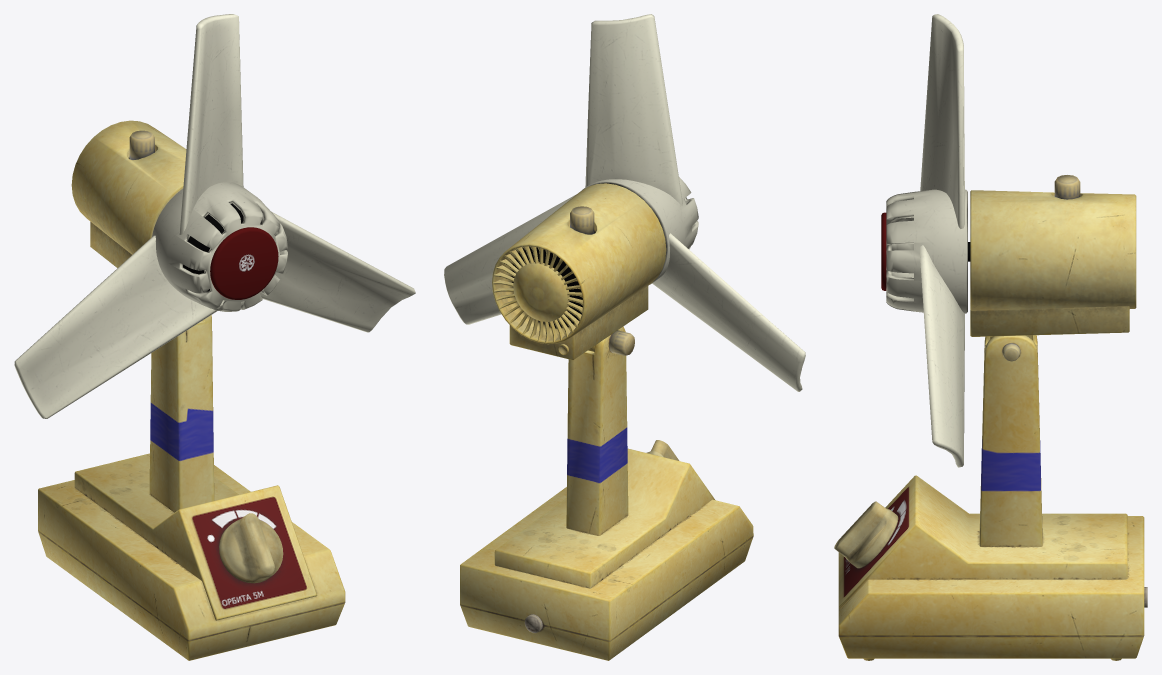
File: soviet_fan_orbita_5m.glb
The picture shows the model from 3 angles, left to right: view 1: azimuth 30°, elevation 25°; view 2: azimuth 150°, elevation 25°; view 3: azimuth 270°, elevation 25°; orthographic projection. The views are drawn at different scales.
Parts seen in each view (by area): view 1: 1.Body_low_DefaultMaterial_0.023, 1.Body_low, 1.Body_low_DefaultMaterial_0.106, 1.Body_low_DefaultMaterial_0.022, 1.Body_low_DefaultMaterial_0.008, 1.Body_low_DefaultMaterial_0.013, 1.Body_low_DefaultMaterial_0.020, 1.Body_low_DefaultMaterial_0.019, 1.Body_low_DefaultMaterial_0.028, 1.Body_low_DefaultMaterial_0.113, 1.Body_low_DefaultMaterial_0.104, 1.Body_low_DefaultMaterial_0.102 (+1 smaller); view 2: 1.Body_low_DefaultMaterial_0.023, 1.Body_low, 1.Body_low_DefaultMaterial_0.106, 1.Body_low_DefaultMaterial_0.020, 1.Body_low_DefaultMaterial_0.010, 1.Body_low_DefaultMaterial_0.013, 1.Body_low_DefaultMaterial_0.019, 1.Body_low_DefaultMaterial_0.227, 1.Body_low_DefaultMaterial_0.113, 1.Body_low_DefaultMaterial_0.108, 1.Body_low_DefaultMaterial_0.112, 1.Body_low_DefaultMaterial_0.109 (+1 smaller); view 3: 1.Body_low, 1.Body_low_DefaultMaterial_0.023, 1.Body_low_DefaultMaterial_0.106, 1.Body_low_DefaultMaterial_0.009, 1.Body_low_DefaultMaterial_0.020, 1.Body_low_DefaultMaterial_0.021, 1.Body_low_DefaultMaterial_0.113, 1.Body_low_DefaultMaterial_0.022, 1.Body_low_DefaultMaterial_0.098, 1.Body_low_DefaultMaterial_0.096.
Boxes of the visible parts, x1,y1,x2,y2 form: 1.Body_low_DefaultMaterial_0.023: (15, 17, 415, 418); 1.Body_low: (38, 465, 345, 660); 1.Body_low_DefaultMaterial_0.106: (71, 120, 186, 254); 1.Body_low_DefaultMaterial_0.022: (179, 485, 316, 620); 1.Body_low_DefaultMaterial_0.008: (178, 315, 213, 508); 1.Body_low_DefaultMaterial_0.013: (149, 336, 180, 512); 1.Body_low_DefaultMaterial_0.020: (76, 453, 238, 527); 1.Body_low_DefaultMaterial_0.019: (74, 471, 217, 620); 1.Body_low_DefaultMaterial_0.028: (200, 216, 286, 309); 1.Body_low_DefaultMaterial_0.113: (90, 222, 131, 267); 1.Body_low_DefaultMaterial_0.104: (245, 513, 274, 573); 1.Body_low_DefaultMaterial_0.102: (222, 524, 251, 579); 1.Body_low_DefaultMaterial_0.023: (444, 17, 804, 391); 1.Body_low: (460, 487, 753, 660); 1.Body_low_DefaultMaterial_0.106: (507, 183, 666, 335); 1.Body_low_DefaultMaterial_0.020: (494, 449, 688, 588); 1.Body_low_DefaultMaterial_0.010: (566, 340, 603, 535); 1.Body_low_DefaultMaterial_0.013: (598, 326, 628, 535); 1.Body_low_DefaultMaterial_0.019: (590, 464, 715, 588); 1.Body_low_DefaultMaterial_0.227: (513, 263, 567, 321); 1.Body_low_DefaultMaterial_0.113: (509, 286, 648, 359); 1.Body_low_DefaultMaterial_0.108: (493, 246, 583, 342); 1.Body_low_DefaultMaterial_0.112: (510, 326, 574, 360); 1.Body_low_DefaultMaterial_0.109: (514, 246, 582, 325); 1.Body_low: (838, 516, 1144, 658); 1.Body_low_DefaultMaterial_0.023: (881, 17, 966, 460); 1.Body_low_DefaultMaterial_0.106: (970, 190, 1134, 310); 1.Body_low_DefaultMaterial_0.009: (979, 336, 1042, 546); 1.Body_low_DefaultMaterial_0.020: (916, 476, 1127, 579); 1.Body_low_DefaultMaterial_0.021: (839, 524, 1126, 609); 1.Body_low_DefaultMaterial_0.113: (971, 306, 1129, 336); 1.Body_low_DefaultMaterial_0.022: (839, 475, 916, 605); 1.Body_low_DefaultMaterial_0.098: (835, 502, 887, 556); 1.Body_low_DefaultMaterial_0.096: (850, 510, 898, 568).
Bounding box in the file's own units: 2.81 × 4.11 × 1.94.
1 material, 1 textured.
